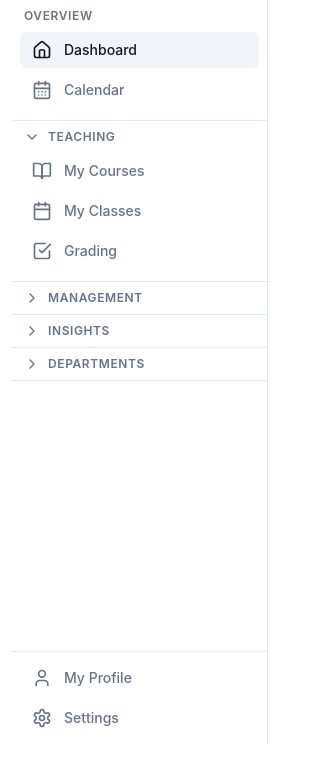
Test case: Sidebar - Department Section › Expand/Collapse Behavior › should collapse department list when clicking header again
Click the button "Departments" at (140, 364), box [12,348,267,380]
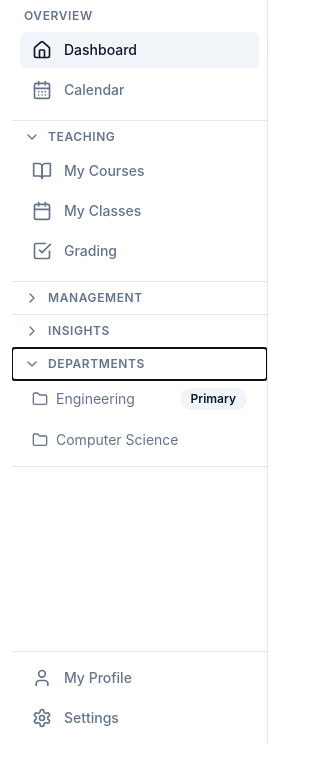
Check: the text "Engineering" is shown, box [56,390,135,407]
Click the button "Departments" at (140, 364), box [12,348,267,380]
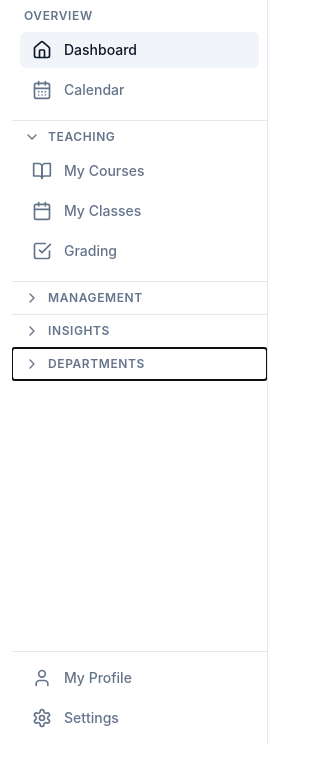
Check: the button "Engineering" is gone
